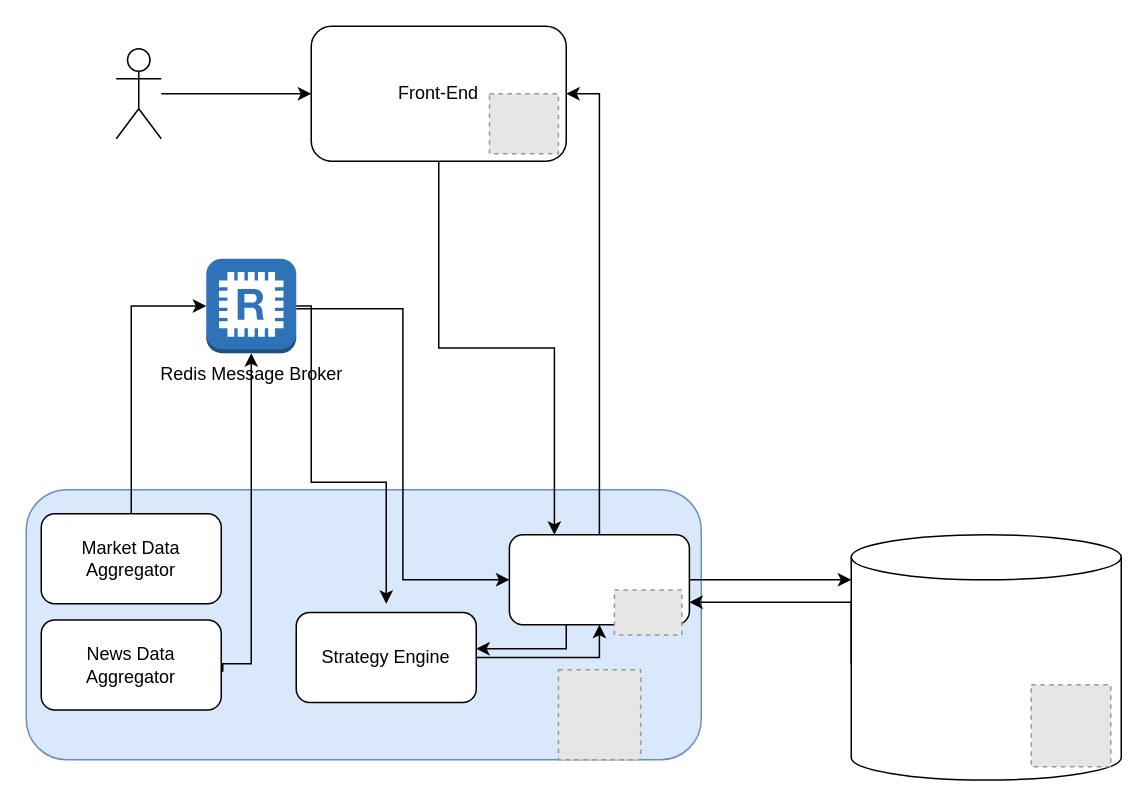
Some shapes in this 1148 by 807 pixel diagram are drawn without their labels. Grey dashed boxes stand in for pictures. Each missing label, with the box of its shape:
Actor: (115, 47, 161, 139)
Clients backend: (508, 533, 689, 625)
Database: (850, 533, 1121, 780)
